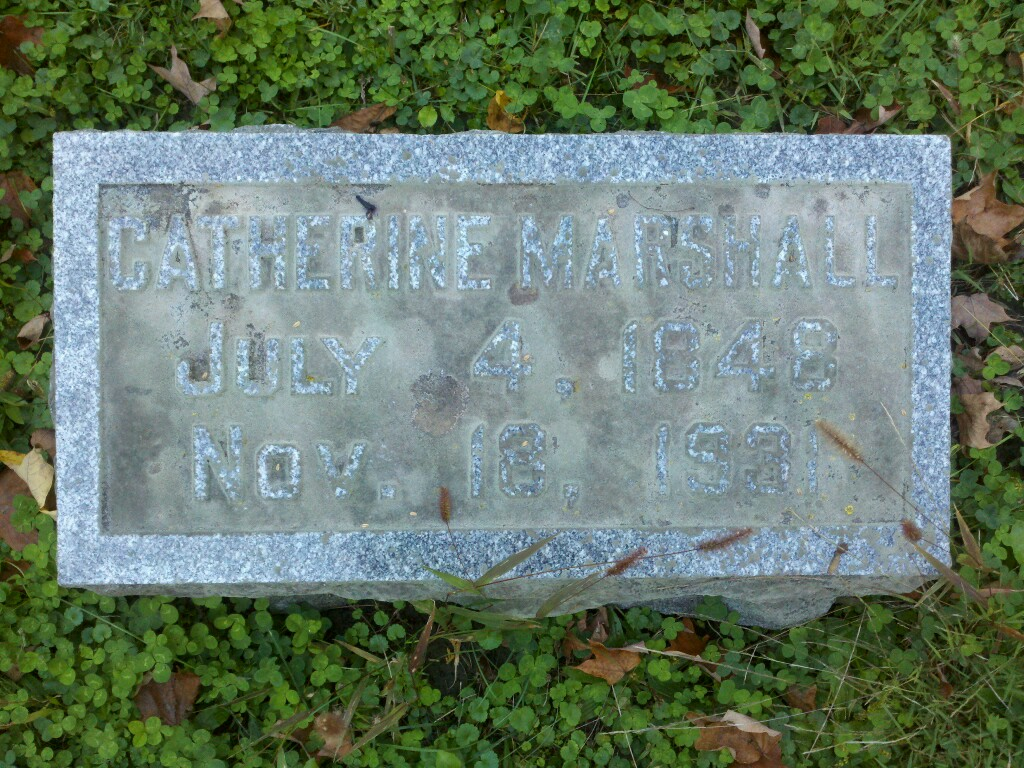flat: (48, 125, 951, 598)
